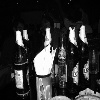beer: (11, 27, 29, 98)
